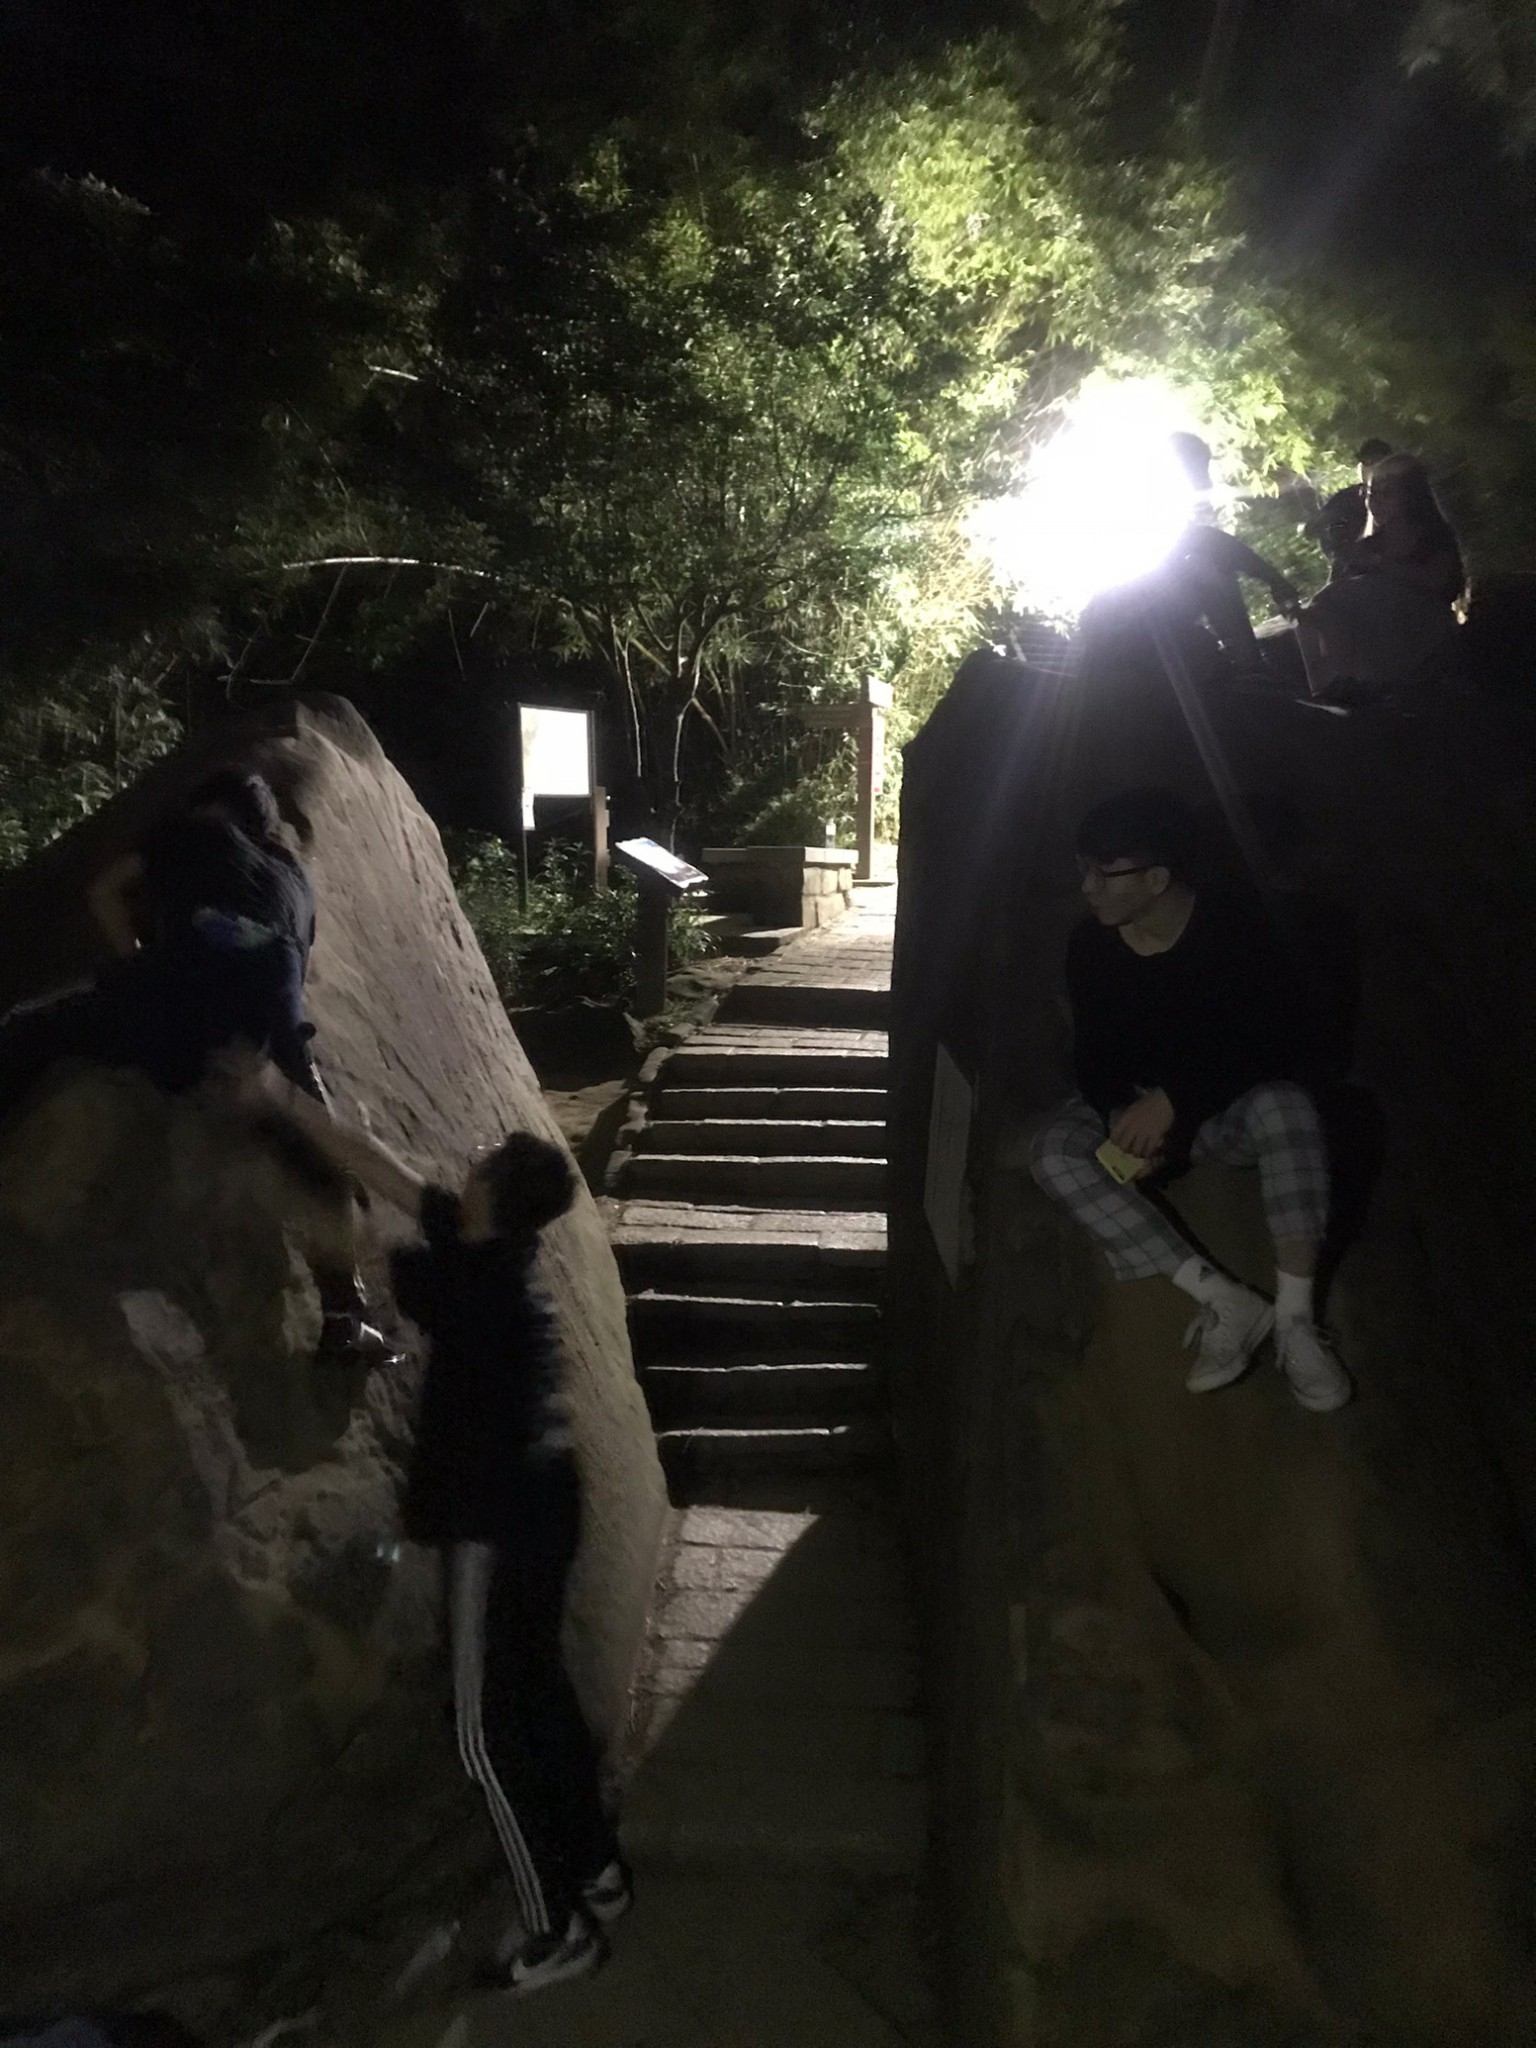people: (379, 1125, 618, 1957), (1076, 793, 1344, 1376), (118, 764, 315, 1041), (1134, 434, 1282, 670), (1337, 444, 1440, 583)
